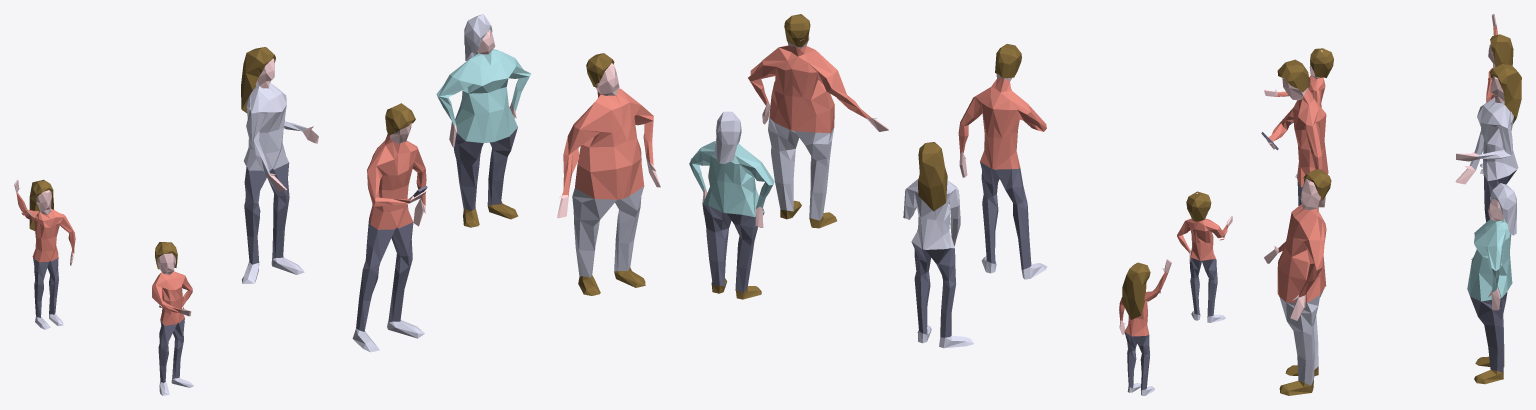
The model's file is people.gltf.
3 renders of one model, left to right at view 1: azimuth 30°, elevation 25°; view 2: azimuth 150°, elevation 25°; view 3: azimuth 270°, elevation 25°, orthographic. The views are drawn at different scales.
Parts seen in each view (by area): view 1: Mesh_Wear1_0, Mesh_Wear_4_0, Mesh_Wear_3_0, Mesh_Wear_6_0, Mesh_Hair1_0, Mesh_Skin1_0; view 2: Mesh_Wear1_0, Mesh_Wear_4_0, Mesh_Wear_3_0, Mesh_Hair1_0, Mesh_Wear_6_0, Mesh_Skin1_0; view 3: Mesh_Wear1_0, Mesh_Wear_3_0, Mesh_Hair1_0, Mesh_Wear_6_0, Mesh_Skin1_0, Mesh_Wear_4_0.
Boxes of the visible parts, x1=… form: Mesh_Wear1_0: x1=16, y1=88, x2=653, y2=325; Mesh_Wear_4_0: x1=33, y1=127, x2=517, y2=382; Mesh_Wear_3_0: x1=35, y1=14, x2=643, y2=395; Mesh_Wear_6_0: x1=436, y1=49, x2=530, y2=143; Mesh_Hair1_0: x1=29, y1=47, x2=645, y2=295; Mesh_Skin1_0: x1=14, y1=29, x2=660, y2=322; Mesh_Wear1_0: x1=748, y1=45, x2=1227, y2=336; Mesh_Wear_4_0: x1=703, y1=162, x2=1217, y2=389; Mesh_Wear_3_0: x1=714, y1=111, x2=1225, y2=395; Mesh_Hair1_0: x1=711, y1=14, x2=1211, y2=319; Mesh_Wear_6_0: x1=689, y1=141, x2=774, y2=216; Mesh_Skin1_0: x1=702, y1=35, x2=1232, y2=334; Mesh_Wear1_0: x1=1268, y1=26, x2=1497, y2=302; Mesh_Wear_3_0: x1=1279, y1=97, x2=1518, y2=385; Mesh_Hair1_0: x1=1277, y1=34, x2=1521, y2=395; Mesh_Wear_6_0: x1=1467, y1=217, x2=1512, y2=301; Mesh_Skin1_0: x1=1264, y1=14, x2=1504, y2=320; Mesh_Wear_4_0: x1=1261, y1=132, x2=1516, y2=372.
Size of what is drawn, in the model's own units: 385 by 158 by 168.
